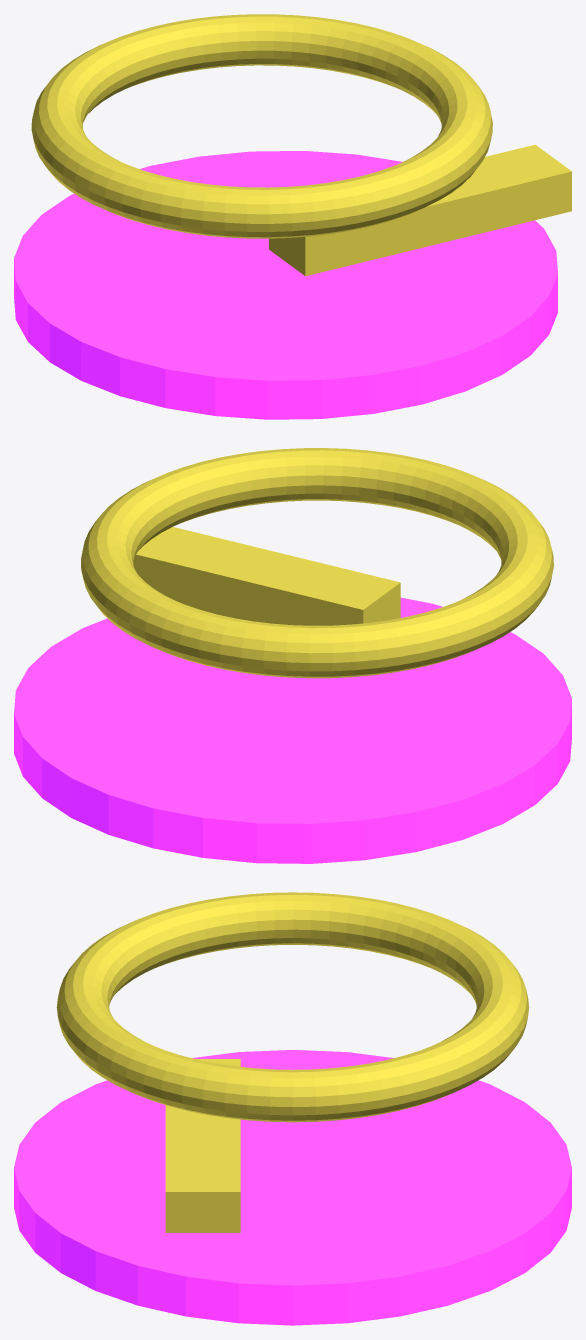
File: modelling_measuring_tape.glb
3 renders of one model, top to bottom at view 1: azimuth 30°, elevation 25°; view 2: azimuth 150°, elevation 25°; view 3: azimuth 270°, elevation 25°, orthographic. The views are drawn at different scales.
Visible parts, largest first — view 1: 05_12_Popular_Modelling_Measuring_Tape_ROOT_base, 05_12_Popular_Modelling_Measuring_Tape_part_01, 05_12_Popular_Modelling_Measuring_Tape_part_02; view 2: 05_12_Popular_Modelling_Measuring_Tape_ROOT_base, 05_12_Popular_Modelling_Measuring_Tape_part_01, 05_12_Popular_Modelling_Measuring_Tape_part_02; view 3: 05_12_Popular_Modelling_Measuring_Tape_ROOT_base, 05_12_Popular_Modelling_Measuring_Tape_part_01, 05_12_Popular_Modelling_Measuring_Tape_part_02.
Boxes of the visible parts, <box> form: 05_12_Popular_Modelling_Measuring_Tape_ROOT_base: <box>14,151,557,419</box>; 05_12_Popular_Modelling_Measuring_Tape_part_01: <box>31,14,492,238</box>; 05_12_Popular_Modelling_Measuring_Tape_part_02: <box>269,144,571,276</box>; 05_12_Popular_Modelling_Measuring_Tape_ROOT_base: <box>14,597,571,863</box>; 05_12_Popular_Modelling_Measuring_Tape_part_01: <box>81,448,553,678</box>; 05_12_Popular_Modelling_Measuring_Tape_part_02: <box>133,527,400,625</box>; 05_12_Popular_Modelling_Measuring_Tape_ROOT_base: <box>14,1050,571,1325</box>; 05_12_Popular_Modelling_Measuring_Tape_part_01: <box>56,892,529,1122</box>; 05_12_Popular_Modelling_Measuring_Tape_part_02: <box>165,1059,240,1232</box>.
Bounding box in the file's own units: 0.76 × 0.3189 × 0.76.
